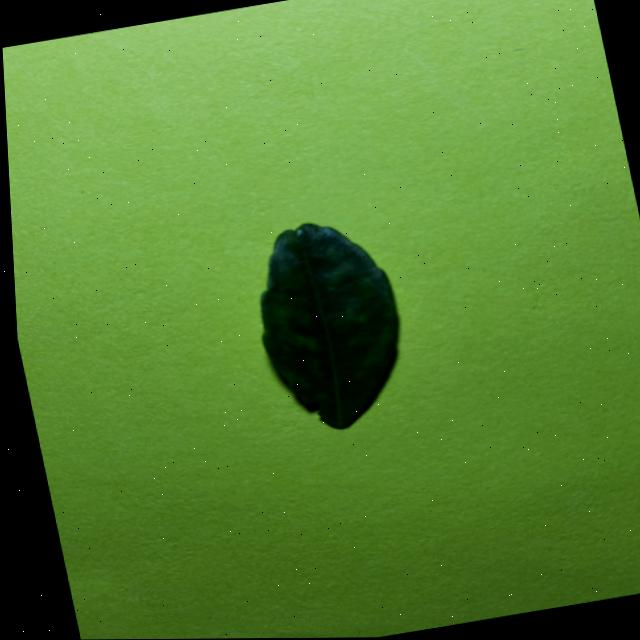greening: (261, 223, 397, 428)
